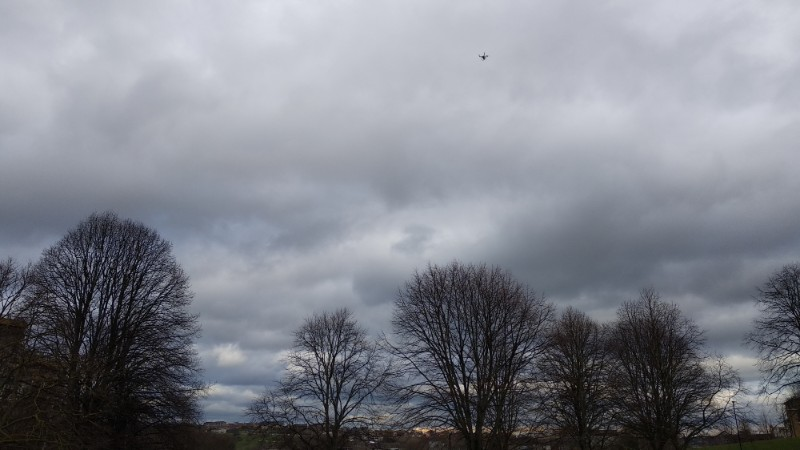drone: (476, 52, 490, 62)
